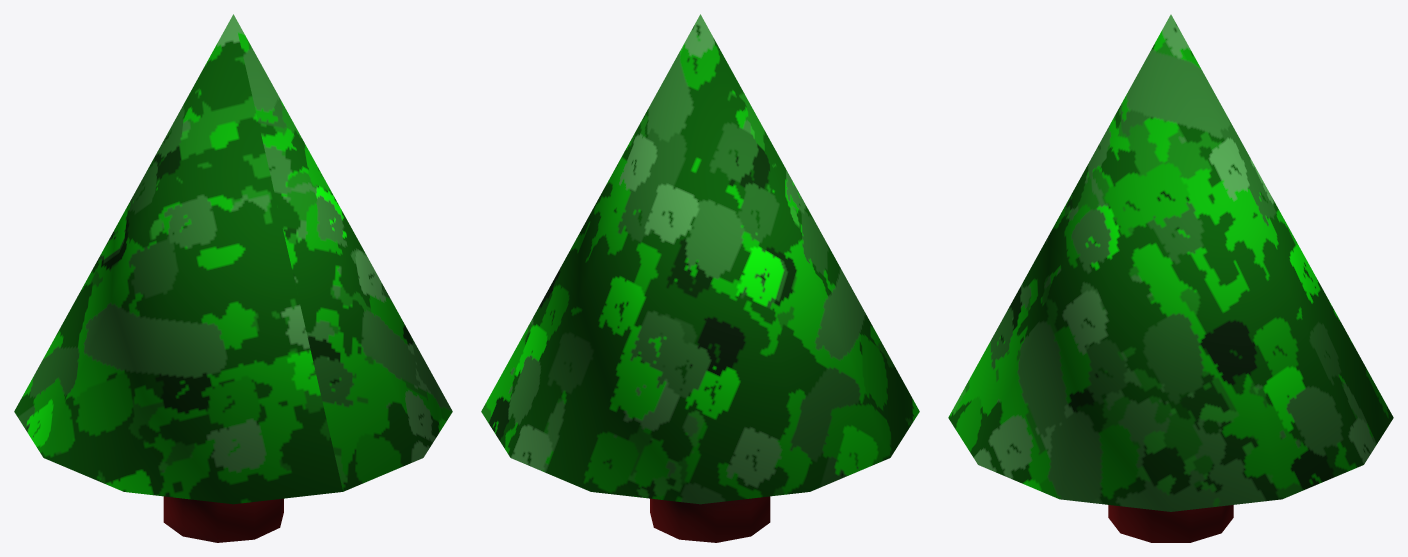
Rendered from tree.fbx.
3 views of the same model, side by side, from view 1: azimuth 30°, elevation 25°; view 2: azimuth 150°, elevation 25°; view 3: azimuth 270°, elevation 25° (orthographic).
Parts seen in each view (by area): view 1: Cone, Cylinder; view 2: Cone, Cylinder; view 3: Cone, Cylinder.
Boxes of the visible parts, x1=… form: Cone: x1=14, y1=14, x2=452, y2=504; Cylinder: x1=163, y1=496, x2=283, y2=542; Cone: x1=481, y1=14, x2=919, y2=504; Cylinder: x1=650, y1=496, x2=770, y2=542; Cone: x1=948, y1=14, x2=1393, y2=511; Cylinder: x1=1108, y1=505, x2=1233, y2=542.
Size of the model in its own units: 712 by 897 by 712.
